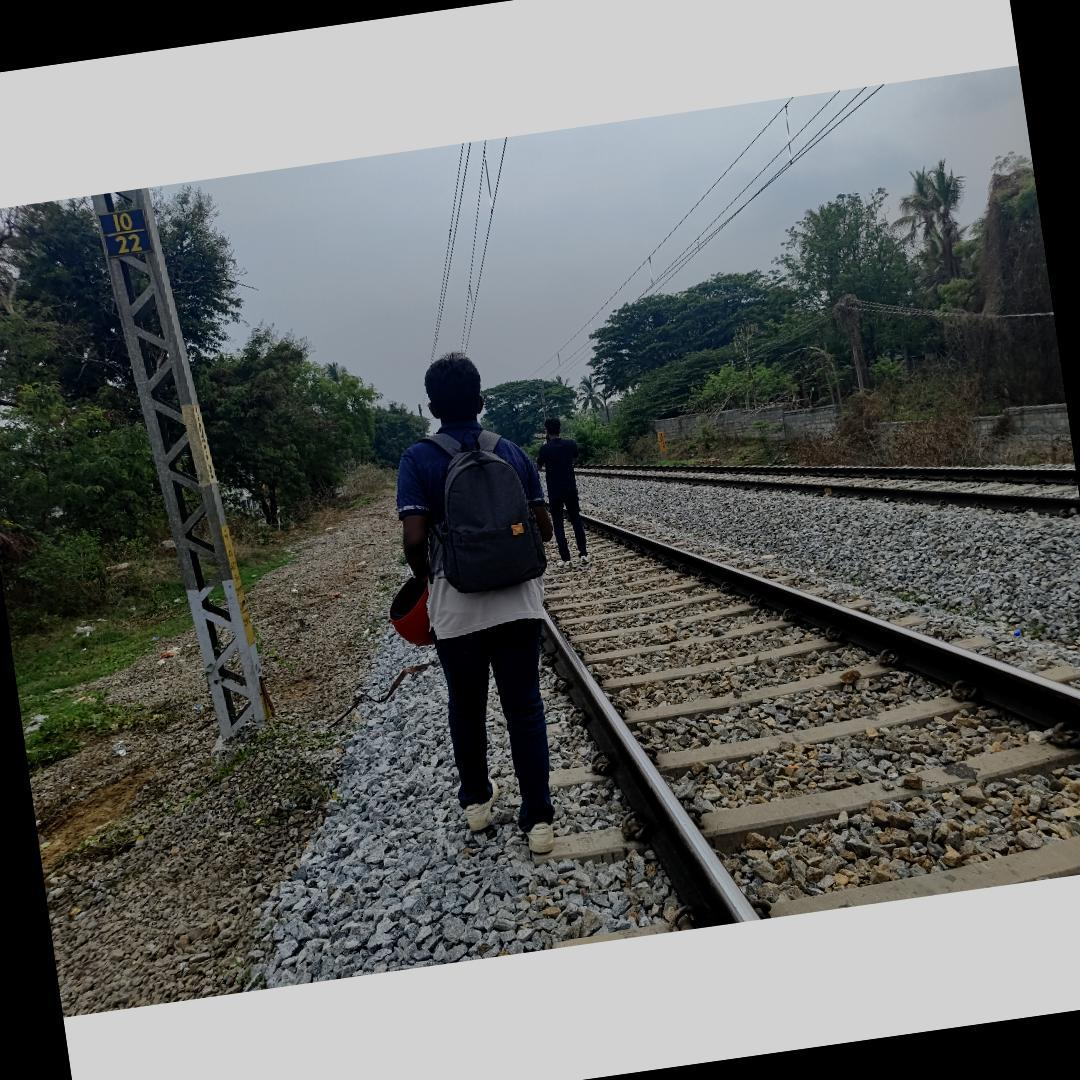standing: (380, 345, 564, 861), (530, 409, 595, 567)
track: (541, 508, 1080, 929)
